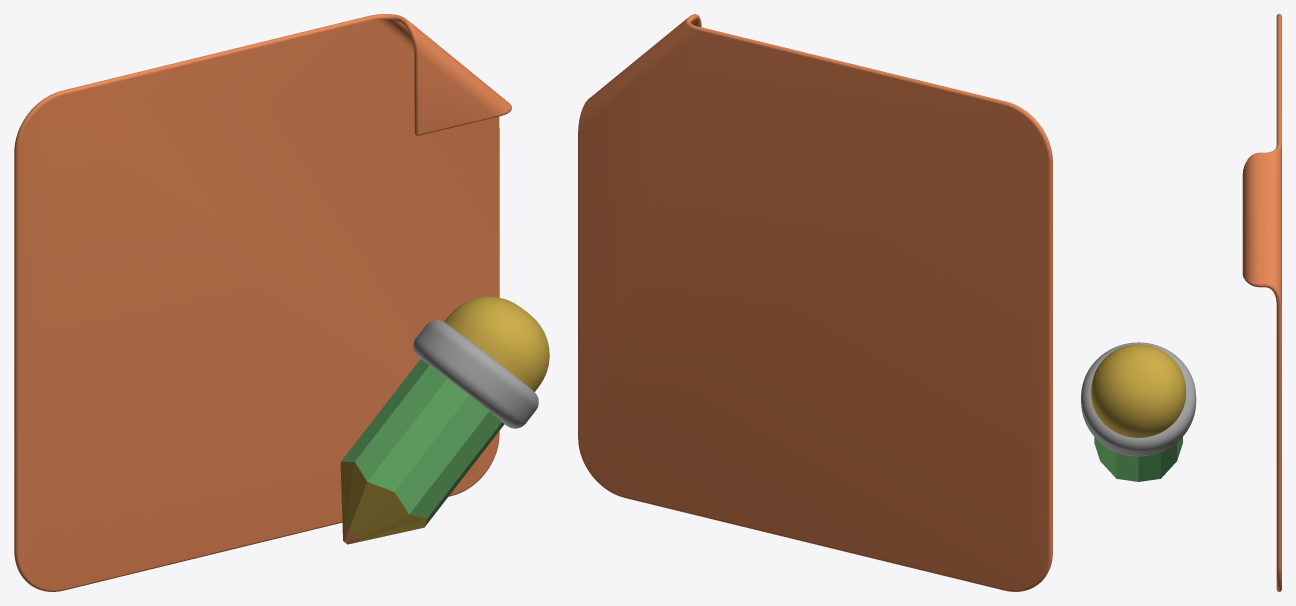
File: notes-3d-animated-icon-1112743551659.glb
3 renders of one model, left to right at view 1: azimuth 30°, elevation 25°; view 2: azimuth 150°, elevation 25°; view 3: azimuth 270°, elevation 25°, orthographic. The views are drawn at different scales.
Parts seen in each view (by area): view 1: Plane.019, Cylinder.038, Cylinder.039, Cylinder.040; view 2: Plane.019; view 3: Plane.019, Cylinder.040, Cylinder.039, Cylinder.038.
Part boxes in pixels (x1=…): Plane.019: x1=14, y1=14, x2=511, y2=591; Cylinder.038: x1=340, y1=359, x2=504, y2=544; Cylinder.039: x1=413, y1=320, x2=538, y2=428; Cylinder.040: x1=444, y1=296, x2=549, y2=391; Plane.019: x1=578, y1=14, x2=1052, y2=591; Plane.019: x1=1242, y1=14, x2=1281, y2=591; Cylinder.040: x1=1091, y1=344, x2=1185, y2=437; Cylinder.039: x1=1081, y1=342, x2=1196, y2=456; Cylinder.038: x1=1094, y1=437, x2=1182, y2=481.
Size of what is drawn, in the model's own units: 1.57 by 1.55 by 0.6839.
